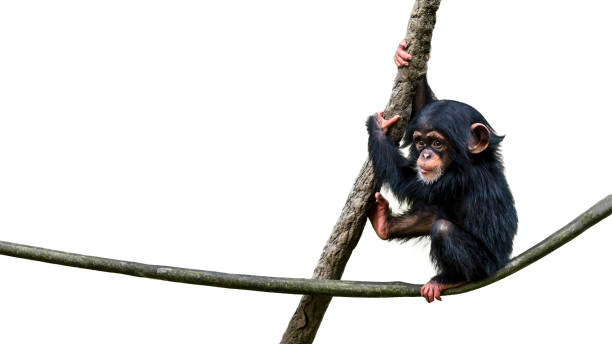chimpanzee: (402, 92, 499, 201)
